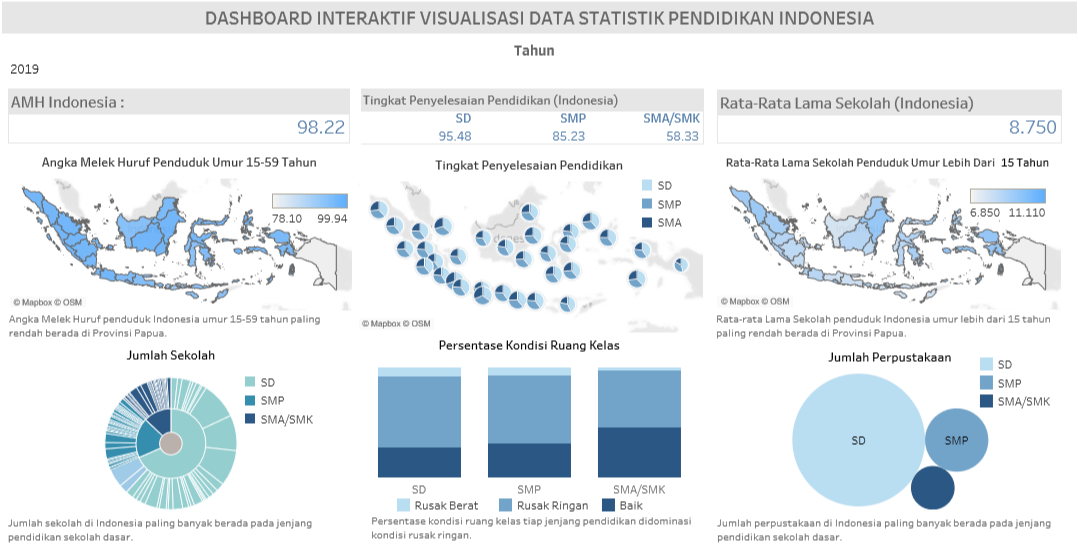

The dashboard page shown, as its layout file describes it:
{"tool":"tableau","page":{"name":"DASHBOARD PENDIDIKAN","canvas":[1000,1000],"units":"permille","ordinal":0},"visuals":[{"type":"text","box":[0.9,0,999.1,59.1]},{"type":"parameter","param":"[Parameters].[Parameter 1]","box":[6.9,69.3,977.5,79.4]},{"type":"text","box":[6.9,158.8,317.8,45.6]},{"type":"text","box":[334.2,158.8,319.5,40.5]},{"type":"text","box":[665.8,160.5,320.4,47.3]},{"type":"worksheet","title":"Tingkat_Ind","mark":"Automatic","cols":["Jenjang Pendidikan (Sheet18)"],"box":[334.2,192.6,319.5,67.6]},{"type":"worksheet","title":"RataRataIndo","mark":"Automatic","box":[665.8,197.6,320.4,60.8]},{"type":"worksheet","title":"AMH_Indo","mark":"Automatic","box":[6.9,199.3,317.8,57.4]},{"type":"worksheet","title":"AMH","mark":"Automatic","box":[5.2,265.2,321.2,295.6]},{"type":"worksheet","title":"RataRataLamaSekolah2","mark":"Automatic","box":[662.3,266.9,322.9,292.2]},{"type":"worksheet","title":"TingkatPenyelesaianPend","mark":"Pie","box":[329,270.3,323.8,329.4]},{"type":"legend","title":"TingkatPenyelesaianPend","param":"[federated.0secub31bvez4a1ebue841fav6dl].[none:Jenjang Pendidikan (Sheet13):nk]","box":[591.3,315.9,71,113.2]},{"type":"legend","title":"RataRataLamaSekolah2","param":"[federated.0secub31bvez4a1ebue841fav6dl].[sum:Calculation_602919446436679686:qk]","box":[897,332.8,77.9,62.5]},{"type":"legend","title":"AMH","param":"[federated.0secub31bvez4a1ebue841fav6dl].[sum:Calculation_1667739282881003524:qk","box":[248.5,342.9,77.9,60.8]},{"type":"text","box":[662.3,549,322.1,79.4]},{"type":"text","box":[5.2,552.4,309.1,72.6]},{"type":"worksheet","title":"KondisiRuangKelas","mark":"Automatic","rows":["Calculation_1486750870803505153"],"cols":["Jenjang Pendidikan"],"box":[337.7,598,306.5,300.7]},{"type":"worksheet","title":"JumlahSekolah","mark":"Pie","box":[6.1,614.9,303.9,317.6]},{"type":"worksheet","title":"Perpus","mark":"Circle","box":[665.8,618.2,320.4,302.4]},{"type":"legend","title":"Perpus","param":"[federated.0secub31bvez4a1ebue841fav6dl].[none:JenjangPendidikan:nk]","box":[907.4,640.2,91.8,101.4]},{"type":"legend","title":"JumlahSekolah","param":"[federated.0secub31bvez4a1ebue841fav6dl].[none:Jenjang Pendidikan (Sheet12):nk]","box":[222.5,672.3,72.7,111.5]},{"type":"legend","title":"KondisiRuangKelas","param":"[federated.0secub31bvez4a1ebue841fav6dl].[none:Keterangan:nk]","box":[365.4,895.3,297.8,55.7]},{"type":"text","box":[342,922.3,311.7,62.5]},{"type":"text","box":[4.3,924,322.9,69.3]},{"type":"text","box":[663.2,924,335.1,67.6]}]}

Visuals, with their boxes on the dashboard's canvas, which has no fixed pixel size, in thousandths of its width and height (x1, y1, x2, y2). These are canvas units, not pixel positions in the 1078x550 screenshot, which may show the page scaled, cropped or inside an application window:
text: bbox(1, 0, 1000, 59)
parameter: bbox(7, 69, 984, 149)
text: bbox(7, 159, 325, 204)
text: bbox(334, 159, 654, 199)
text: bbox(666, 160, 986, 208)
"Tingkat_Ind" worksheet: bbox(334, 193, 654, 260)
"RataRataIndo" worksheet: bbox(666, 198, 986, 258)
"AMH_Indo" worksheet: bbox(7, 199, 325, 257)
"AMH" worksheet: bbox(5, 265, 326, 561)
"RataRataLamaSekolah2" worksheet: bbox(662, 267, 985, 559)
"TingkatPenyelesaianPend" worksheet (Pie marks): bbox(329, 270, 653, 600)
"TingkatPenyelesaianPend" legend: bbox(591, 316, 662, 429)
"RataRataLamaSekolah2" legend: bbox(897, 333, 975, 395)
"AMH" legend: bbox(248, 343, 326, 404)
text: bbox(662, 549, 984, 628)
text: bbox(5, 552, 314, 625)
"KondisiRuangKelas" worksheet: bbox(338, 598, 644, 899)
"JumlahSekolah" worksheet (Pie marks): bbox(6, 615, 310, 932)
"Perpus" worksheet (Circle marks): bbox(666, 618, 986, 921)
"Perpus" legend: bbox(907, 640, 999, 742)
"JumlahSekolah" legend: bbox(222, 672, 295, 784)
"KondisiRuangKelas" legend: bbox(365, 895, 663, 951)
text: bbox(342, 922, 654, 985)
text: bbox(4, 924, 327, 993)
text: bbox(663, 924, 998, 992)
